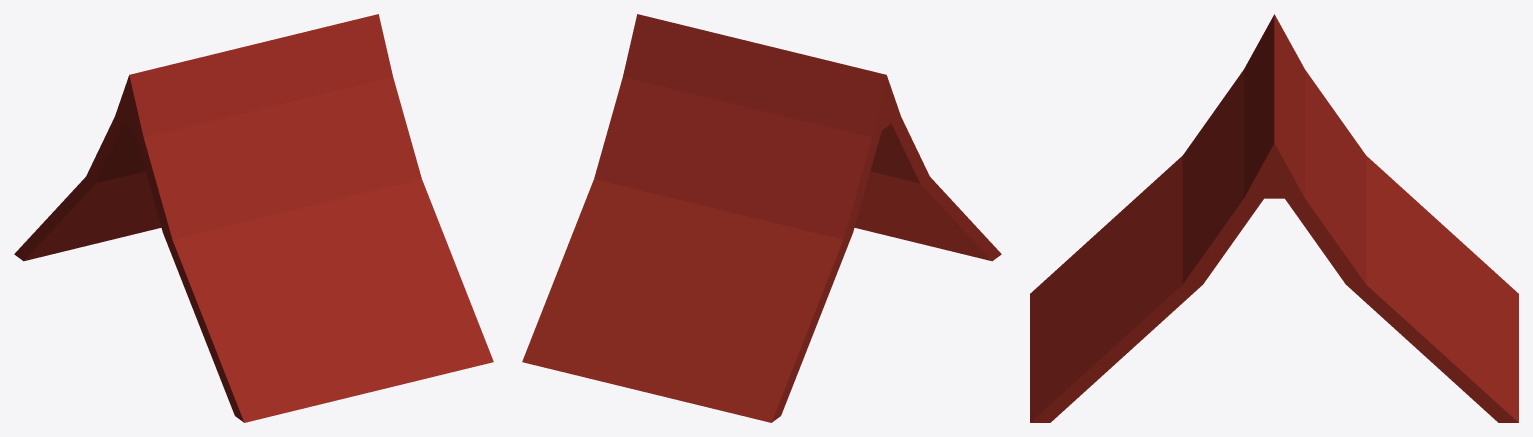
File: tent.fbx
3 renders of one model, left to right at view 1: azimuth 30°, elevation 25°; view 2: azimuth 150°, elevation 25°; view 3: azimuth 270°, elevation 25°, orthographic. The views are drawn at different scales.
Parts seen in each view (by area): view 1: tent; view 2: tent; view 3: tent.
Boxes of the visible parts, box(x1,y1,x2,y2) form: tent: box(14, 14, 493, 422); tent: box(522, 14, 1001, 422); tent: box(1030, 14, 1518, 422).
Size of the model in its own units: 10 by 16 by 10.11.
